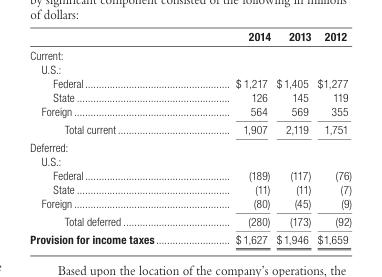table: (29, 29, 351, 245)
table column: (29, 29, 194, 245), (194, 29, 272, 245), (272, 29, 313, 245), (313, 29, 351, 245)
table column header: (29, 29, 351, 45)
table projected row header: (29, 45, 351, 62), (29, 138, 351, 154), (29, 62, 351, 76), (29, 154, 351, 168)
table row: (29, 120, 351, 138), (29, 45, 351, 62), (29, 212, 351, 229), (29, 29, 351, 45), (29, 104, 351, 120), (29, 138, 351, 154), (29, 196, 351, 212), (29, 229, 351, 245), (29, 62, 351, 76), (29, 76, 351, 90), (29, 90, 351, 104), (29, 154, 351, 168), (29, 168, 351, 182), (29, 182, 351, 196)
